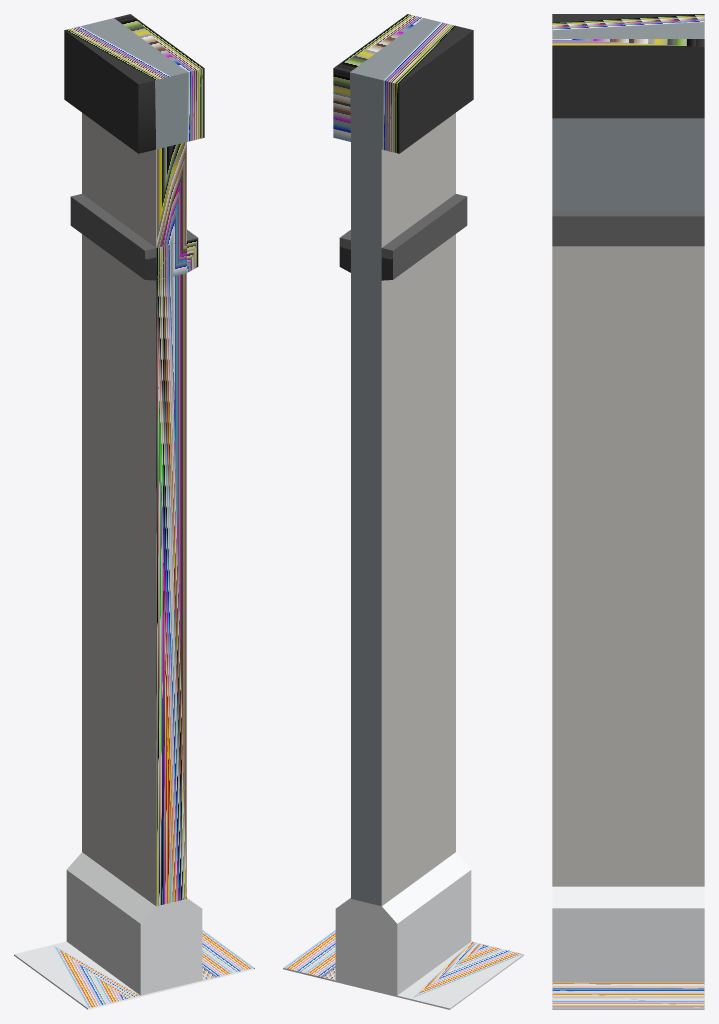
Rendered from Wall_1.325.fbx.
3 views of the same model, side by side, from view 1: azimuth 30°, elevation 25°; view 2: azimuth 150°, elevation 25°; view 3: azimuth 270°, elevation 25° (orthographic). The views are drawn at different scales.
Parts seen in each view (by area): view 1: Wall; view 2: Wall; view 3: Wall.
Boxes of the visible parts, left/top/right/bottom form: Wall: left=14, top=14, right=254, bottom=1009; Wall: left=283, top=14, right=523, bottom=1009; Wall: left=552, top=14, right=704, bottom=1009.
Size of the model in its own units: 1.72 by 1.32 by 9.
